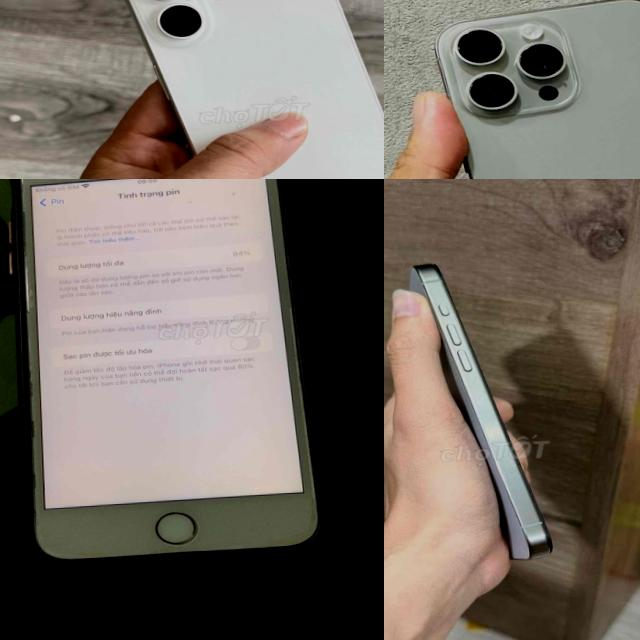scratch: (442, 21, 570, 111), (20, 466, 42, 532), (298, 486, 318, 536), (24, 364, 36, 398), (24, 416, 39, 439)
